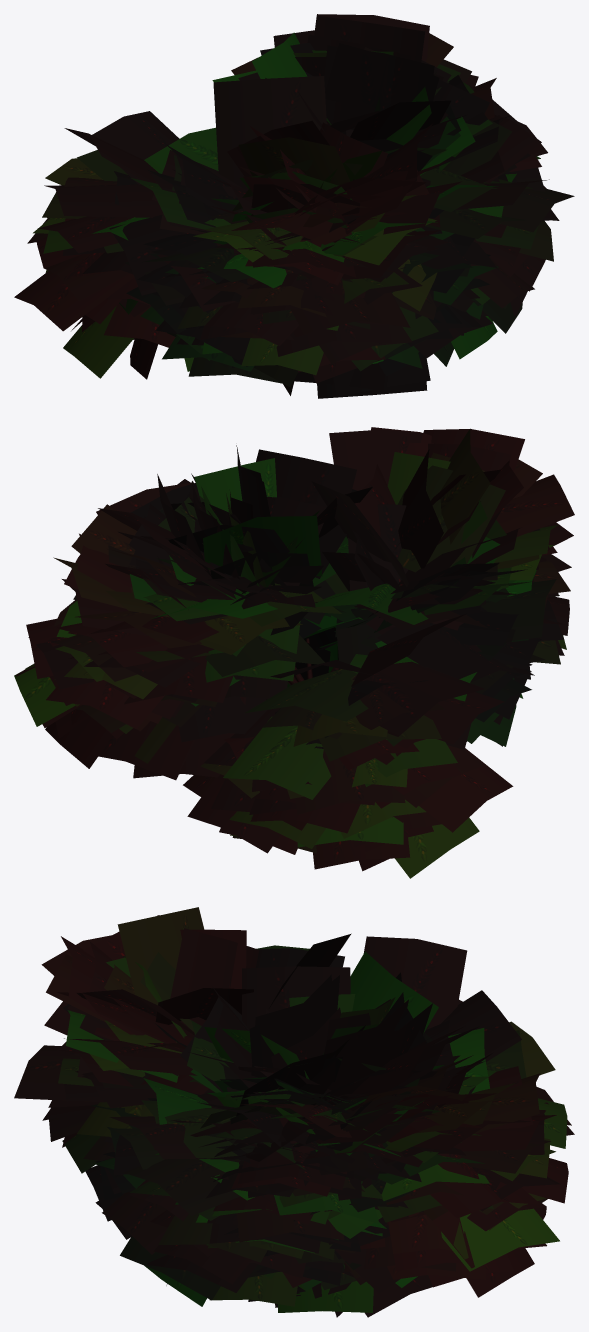
The model's file is veg_tamarind1_far.glb.
3 views of the same model, one above another, from view 1: azimuth 30°, elevation 25°; view 2: azimuth 150°, elevation 25°; view 3: azimuth 270°, elevation 25° (orthographic). The views are drawn at different scales.
Parts seen in each view (by area): view 1: tamarind_1; view 2: tamarind_1; view 3: tamarind_1.
Part boxes in pixels (left/top/right/bottom): tamarind_1: left=14, top=14, right=574, bottom=398; tamarind_1: left=14, top=427, right=574, bottom=878; tamarind_1: left=14, top=907, right=574, bottom=1317.
Size of the model in its own units: 21.37 by 14.54 by 22.24.
Materials: 2 (2 with a texture image).
